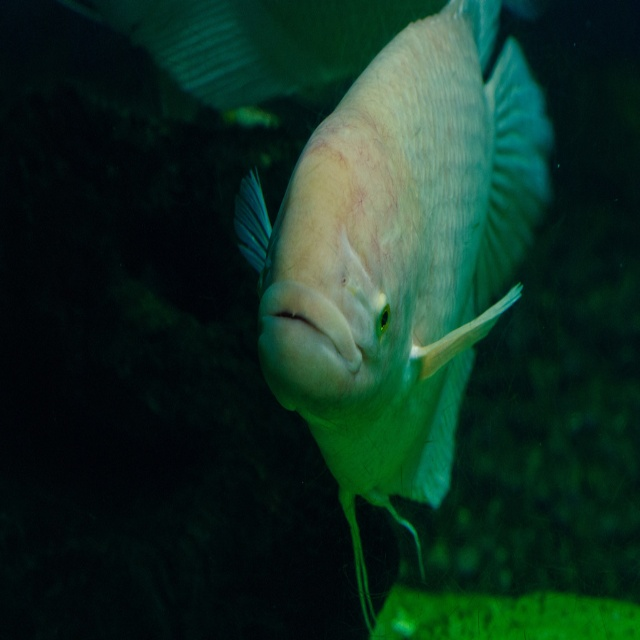Fish: (231, 0, 554, 627)
